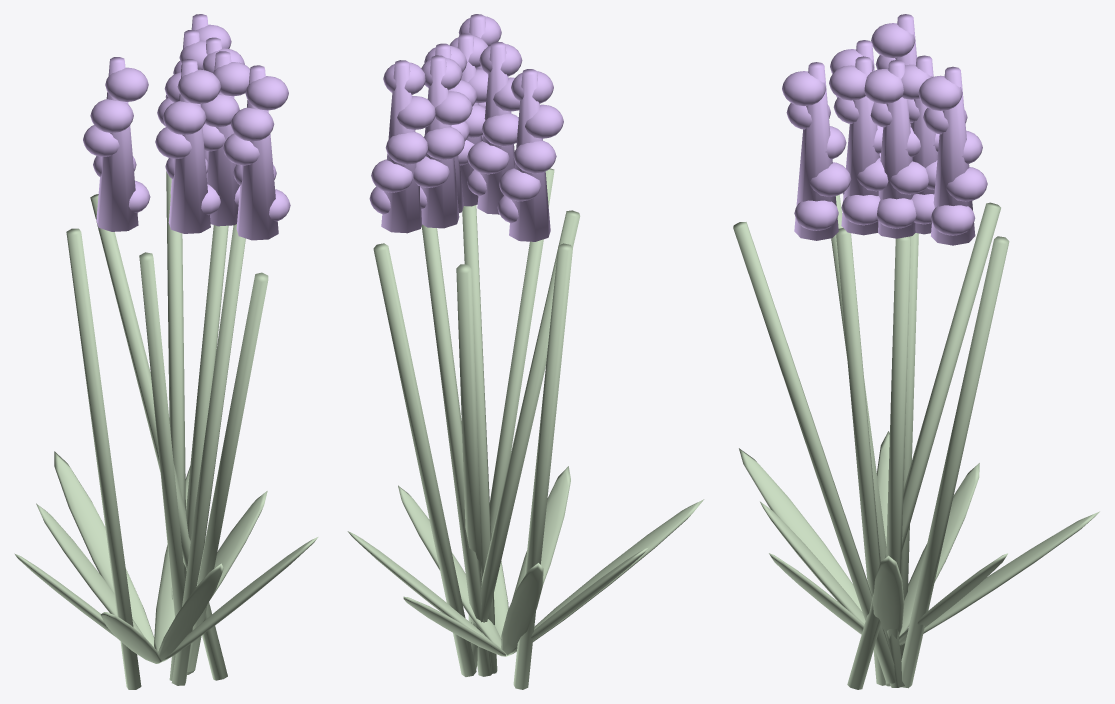
The model's file is VCrop_Lavender_5.fbx.
The picture shows the model from 3 angles, left to right: view 1: azimuth 30°, elevation 25°; view 2: azimuth 150°, elevation 25°; view 3: azimuth 270°, elevation 25°; orthographic projection. The views are drawn at different scales.
Parts seen in each view (by area): view 1: VCrop_Lavender_5; view 2: VCrop_Lavender_5; view 3: VCrop_Lavender_5.
Boxes of the visible parts, x1,y1,x2,y2 form: VCrop_Lavender_5: (14,14,318,689); VCrop_Lavender_5: (347,14,704,689); VCrop_Lavender_5: (733,14,1099,689).
Bounding box in the file's own units: 0.228 × 0.5391 × 0.2803.
